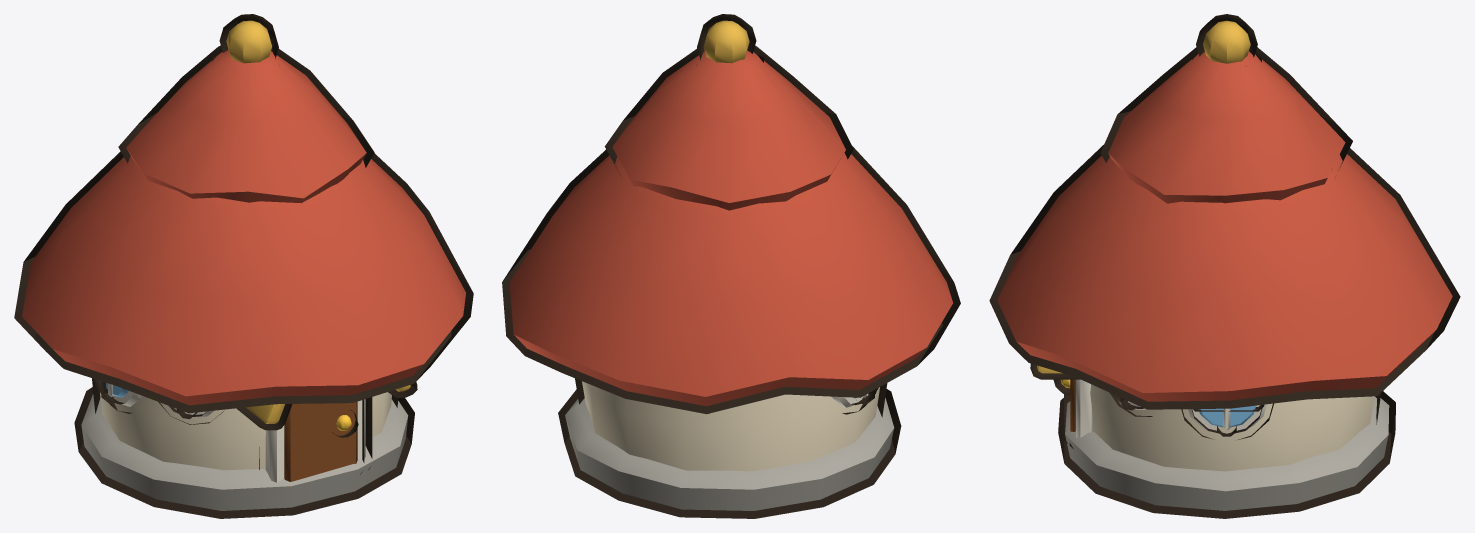
File: house-3.glb
3 renders of one model, left to right at view 1: azimuth 30°, elevation 25°; view 2: azimuth 150°, elevation 25°; view 3: azimuth 270°, elevation 25°, orthographic.
Visible parts, largest first — view 1: house-3; view 2: house-3; view 3: house-3.
Part boxes in pixels (<box>): house-3: <box>14,14,473,518</box>; house-3: <box>502,14,960,518</box>; house-3: <box>989,14,1460,518</box>.
Bounding box in the file's own units: 3.31 × 3.4 × 3.34.
